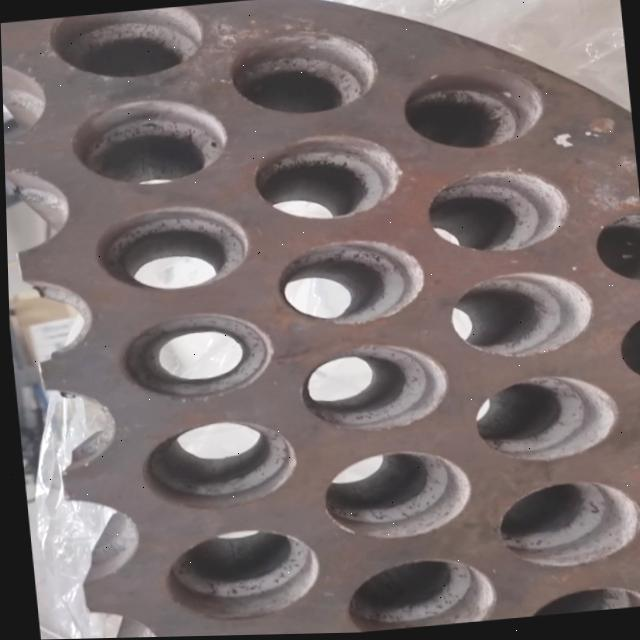Hole: (158, 524, 322, 625), (66, 91, 230, 191), (111, 305, 273, 405), (134, 415, 297, 513), (90, 199, 251, 297), (314, 446, 472, 545), (294, 337, 450, 437), (247, 129, 404, 225), (467, 371, 620, 469), (271, 235, 426, 331), (224, 25, 380, 120), (488, 477, 640, 574), (443, 267, 596, 363), (420, 165, 571, 259), (397, 66, 547, 157), (46, 4, 207, 84), (338, 553, 494, 634), (514, 584, 640, 619), (587, 212, 640, 293), (610, 309, 640, 392), (635, 407, 640, 493)
